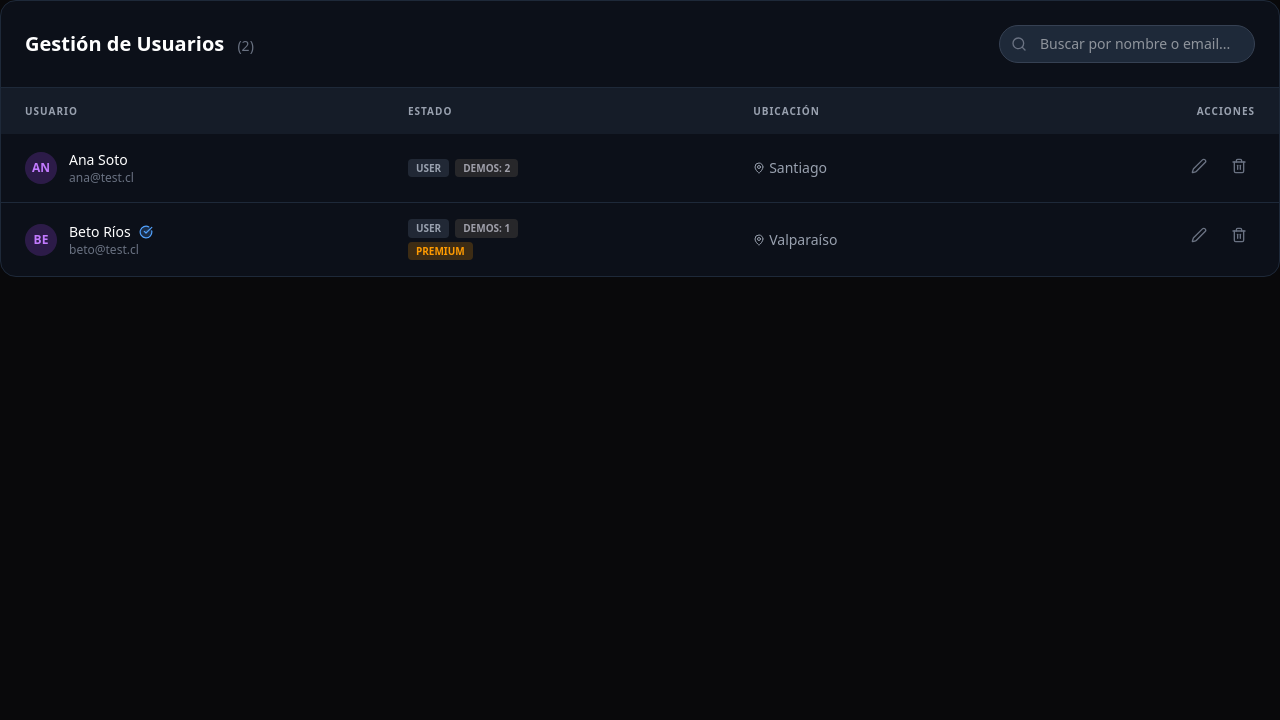
Test: Admin — happy path › cancelar el modal de confirmación no elimina al usuario
Expected: the text "Ana Soto" is shown, [69, 150, 128, 170]
Click the button titled "Eliminar" in the row of "Ana Soto". click: (1239, 166)
box: [1223, 150, 1255, 182]
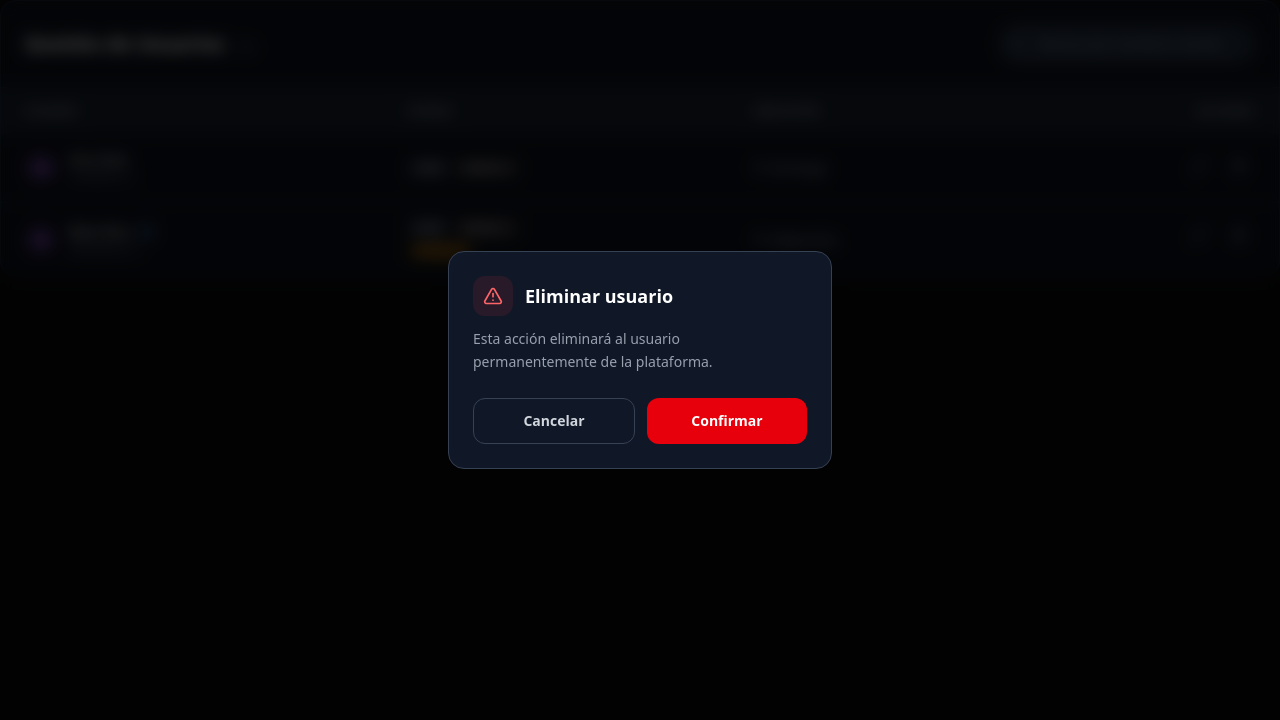
Click the button "Cancelar". click: (554, 421)
box: [473, 398, 635, 444]
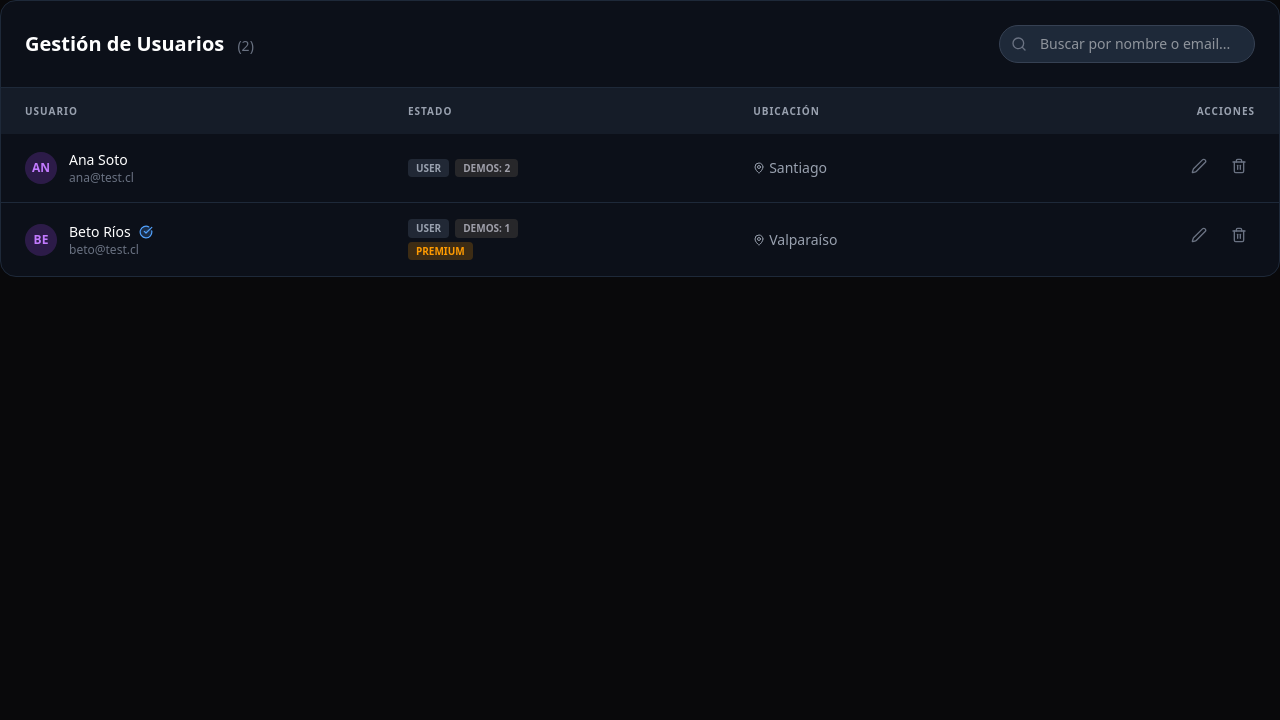
Expected: the text "Ana Soto" is shown, [69, 150, 128, 170]
Expected: the heading "Eliminar usuario" is gone
